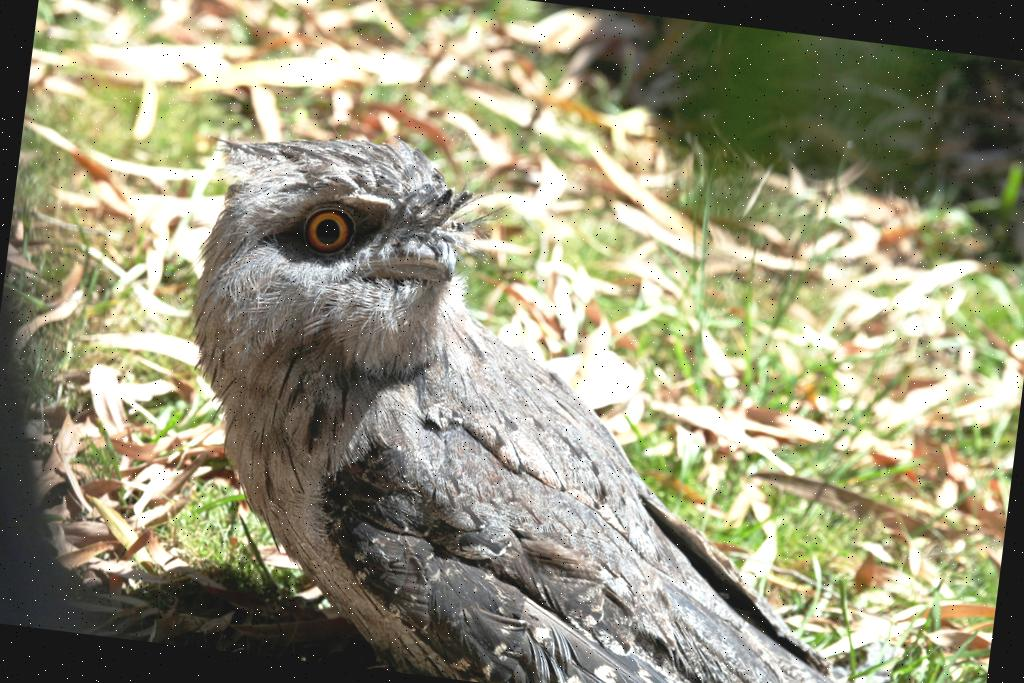Owl: (147, 114, 1006, 683)
